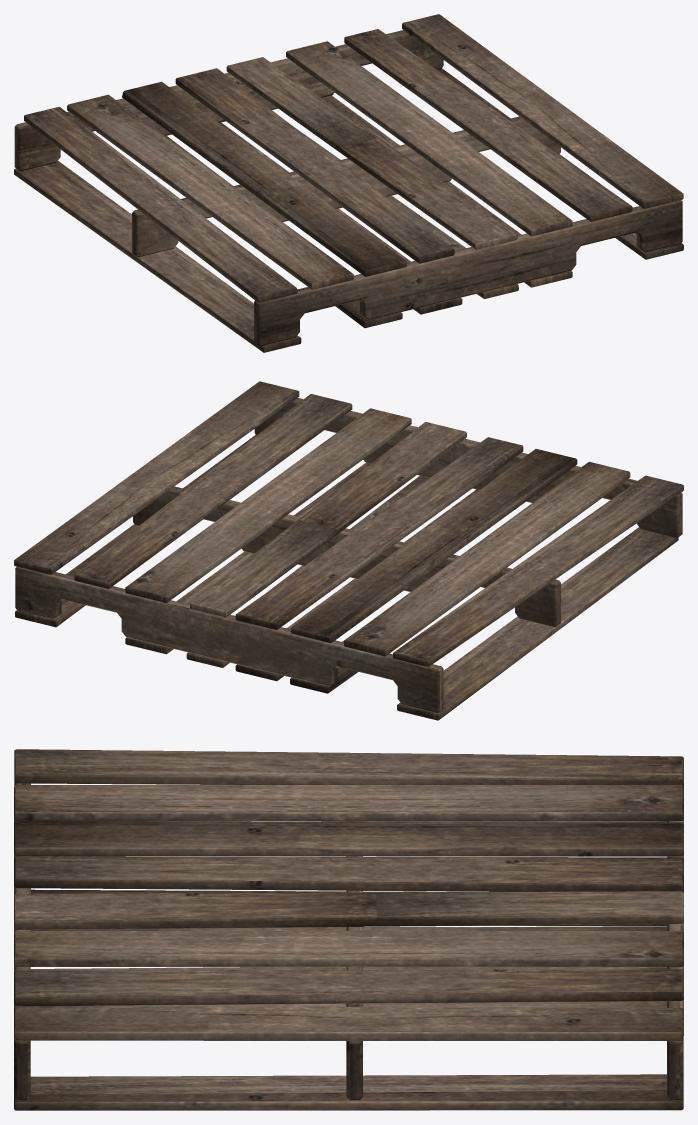
Rendered from EmptyPalette.fbx.
The picture shows the model from 3 angles, top to bottom: view 1: azimuth 30°, elevation 25°; view 2: azimuth 150°, elevation 25°; view 3: azimuth 270°, elevation 25°; orthographic projection. The views are drawn at different scales.
Parts seen in each view (by area): view 1: pallet; view 2: pallet; view 3: pallet.
Part boxes in pixels (bbox=[...]): pallet: bbox=[14, 14, 683, 352]; pallet: bbox=[14, 381, 683, 720]; pallet: bbox=[14, 749, 683, 1110].
Size of the model in its own units: 0.8855 by 0.1147 by 0.8825.
